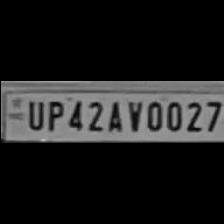0: (142, 97, 162, 131), (162, 97, 182, 131)
2: (84, 97, 104, 132), (182, 97, 202, 132)
4: (64, 97, 84, 131)
7: (202, 96, 222, 132)
A: (102, 97, 124, 132)
P: (42, 97, 64, 131)
U: (22, 98, 44, 130)
V: (124, 97, 142, 132)
